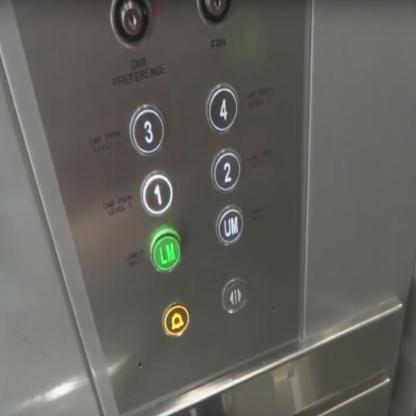1: (138, 168, 174, 216)
2: (210, 146, 242, 194)
3: (129, 102, 167, 157)
4: (205, 81, 240, 135)
LM: (148, 223, 183, 273)
UM: (214, 203, 245, 247)
alarm: (162, 300, 190, 337)
keyhole: (108, 0, 154, 49)
open: (221, 275, 249, 313)
